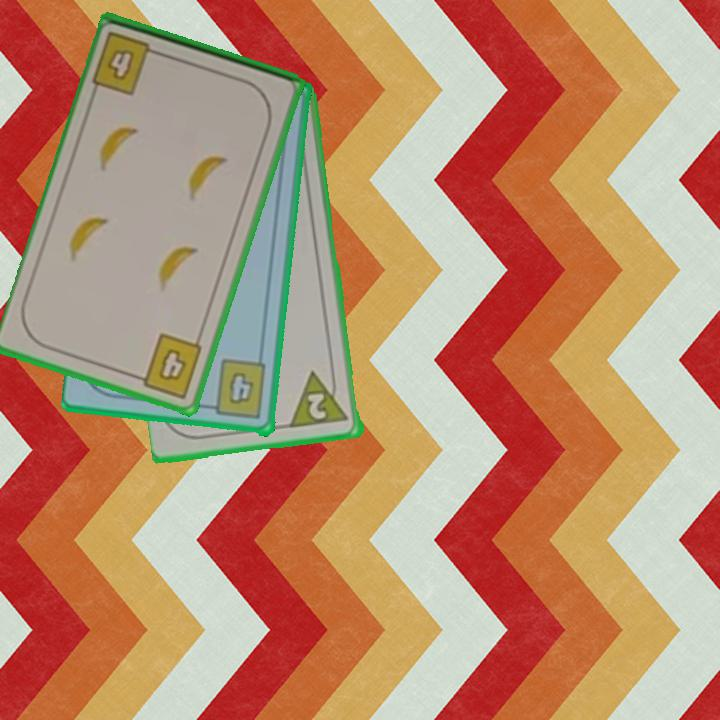2p: (288, 366, 352, 431)
4b: (131, 329, 206, 402), (89, 28, 166, 98), (202, 357, 269, 423)
